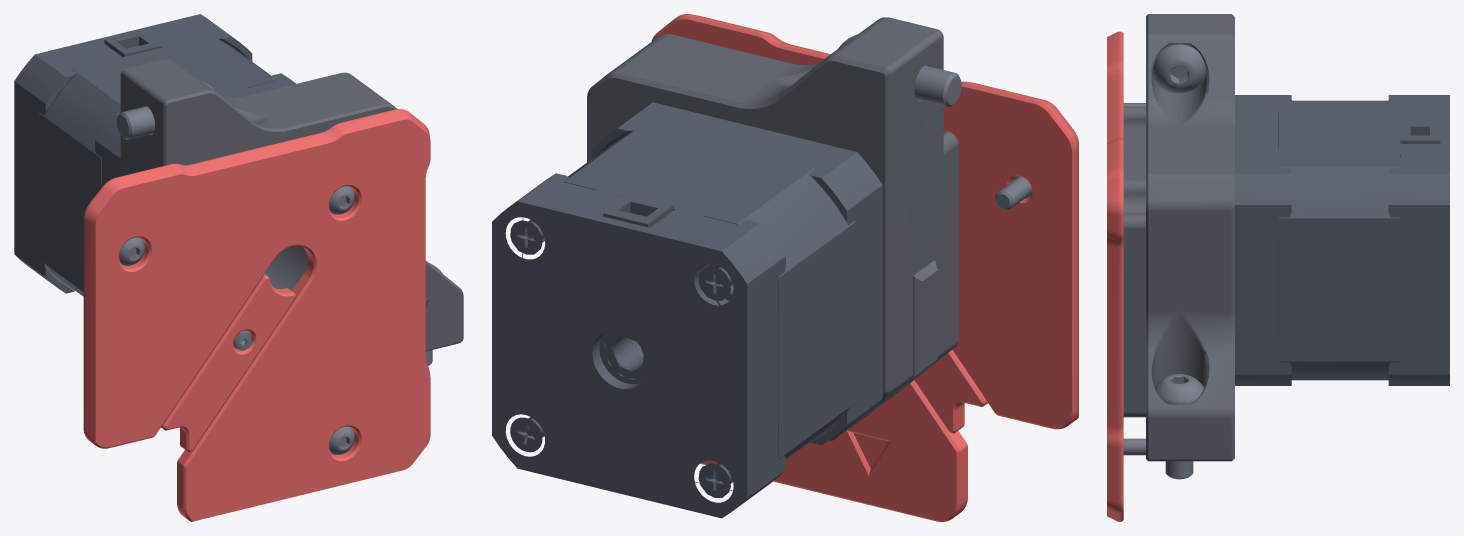
The picture shows the model from 3 angles, left to right: view 1: azimuth 30°, elevation 25°; view 2: azimuth 150°, elevation 25°; view 3: azimuth 270°, elevation 25°; orthographic projection. The views are drawn at different scales.
Visible parts, largest first — view 1: [a]_z_cover_left, motor_body, z_stepper_left, [a]_z_cover_left_14, m5x16_bhcs__6__10, m3x6_bhcs__1___2__7, m3x6_bhcs__1___2_, m3x6_bhcs__1___2__6; view 2: motor_body, [a]_z_cover_left, z_stepper_left, [a]_z_cover_left_14, m5x16_bhcs__6__10, m3x6_bhcs__1___2_; view 3: motor_body, z_stepper_left, [a]_z_cover_left, m5x16_bhcs__6__10, m5x16_bhcs__6_, m3x6_bhcs__1___2__6.
Boxes of the visible parts, box(x1,y1,x2,y2) form: [a]_z_cover_left: box(83, 109, 430, 521); motor_body: box(14, 14, 296, 296); z_stepper_left: box(120, 59, 463, 351); [a]_z_cover_left_14: box(161, 274, 295, 451); m5x16_bhcs__6__10: box(117, 81, 216, 139); m3x6_bhcs__1___2__7: box(329, 186, 354, 214); m3x6_bhcs__1___2_: box(119, 237, 144, 265); m3x6_bhcs__1___2__6: box(329, 426, 354, 454); motor_body: box(492, 102, 882, 518); [a]_z_cover_left: box(651, 14, 1078, 521); z_stepper_left: box(587, 17, 958, 441); [a]_z_cover_left_14: box(914, 350, 987, 433); m5x16_bhcs__6__10: box(838, 34, 961, 107); m3x6_bhcs__1___2_: box(995, 176, 1031, 210); motor_body: box(1235, 95, 1449, 385); z_stepper_left: box(1123, 14, 1234, 461); [a]_z_cover_left: box(1107, 31, 1123, 521); m5x16_bhcs__6__10: box(1153, 44, 1205, 93); m5x16_bhcs__6_: box(1154, 374, 1204, 479); m3x6_bhcs__1___2__6: box(1123, 438, 1145, 455).
Size of the model in its own units: 0.08 by 0.08 by 0.0616.
